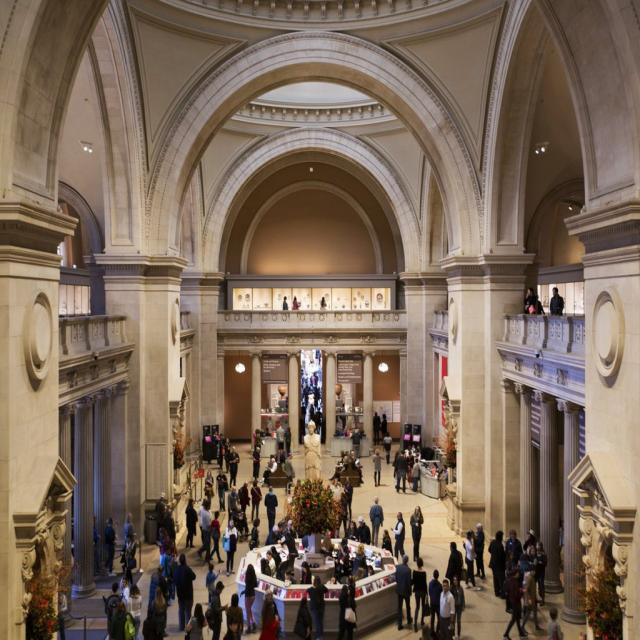body: (301, 349, 326, 481), (170, 551, 198, 633), (501, 564, 529, 639), (519, 564, 545, 636), (392, 552, 415, 633), (409, 554, 430, 634), (203, 580, 230, 639), (306, 574, 330, 639), (239, 562, 260, 635), (328, 449, 366, 486), (487, 530, 507, 600), (462, 530, 482, 592), (427, 568, 444, 639), (104, 580, 124, 640), (448, 573, 465, 640), (102, 516, 120, 578), (438, 578, 456, 640), (220, 518, 238, 578), (265, 517, 306, 543), (147, 564, 169, 612), (197, 499, 214, 561), (183, 600, 210, 639), (279, 530, 299, 582), (224, 591, 245, 639), (338, 584, 356, 640), (207, 508, 224, 565), (539, 605, 567, 639), (534, 540, 548, 608), (410, 504, 426, 563), (126, 582, 142, 640), (444, 540, 464, 586), (504, 549, 518, 614), (151, 587, 168, 640), (472, 521, 487, 580), (293, 596, 313, 640), (264, 484, 280, 538), (122, 530, 137, 587), (368, 495, 384, 548), (390, 510, 406, 562), (259, 601, 280, 639), (184, 497, 199, 549), (394, 448, 410, 495), (197, 498, 212, 546), (205, 563, 222, 605), (336, 490, 350, 540), (261, 588, 281, 622), (154, 492, 167, 544), (214, 466, 228, 513), (232, 503, 250, 538), (335, 545, 351, 584), (259, 456, 279, 487), (92, 515, 102, 575), (162, 508, 177, 548), (517, 552, 533, 589), (336, 536, 352, 572), (342, 476, 354, 524), (371, 446, 385, 487), (250, 478, 263, 522), (210, 431, 224, 471), (203, 468, 216, 511), (159, 545, 174, 582), (228, 445, 240, 491), (504, 529, 524, 556), (284, 452, 296, 496), (328, 476, 339, 524), (123, 511, 135, 553), (549, 286, 565, 317), (155, 526, 166, 570), (356, 515, 372, 545), (165, 545, 173, 603), (349, 428, 363, 459), (270, 545, 282, 581), (228, 485, 240, 520), (522, 528, 537, 556), (523, 287, 538, 315), (238, 482, 251, 514), (248, 518, 261, 550), (391, 450, 401, 489), (382, 430, 393, 465), (410, 456, 420, 494), (223, 619, 241, 640), (344, 519, 360, 542), (381, 529, 394, 557), (346, 574, 356, 610), (372, 410, 382, 446), (299, 560, 313, 585), (118, 577, 130, 606), (338, 402, 349, 433), (283, 425, 293, 459), (406, 439, 426, 456), (355, 542, 368, 568), (276, 422, 286, 454), (252, 446, 260, 484), (254, 428, 265, 455), (224, 437, 232, 474), (424, 461, 439, 479), (266, 549, 276, 575), (353, 427, 363, 452), (260, 557, 272, 577), (534, 294, 546, 314), (379, 412, 388, 438), (527, 546, 540, 564), (404, 462, 412, 491), (252, 428, 260, 457), (281, 570, 295, 586), (439, 463, 449, 485), (265, 453, 277, 470), (406, 450, 416, 470), (350, 568, 364, 582), (326, 573, 340, 585), (292, 296, 302, 310), (367, 563, 375, 577), (320, 296, 328, 308), (339, 427, 348, 437), (282, 296, 288, 310), (264, 427, 271, 438)
